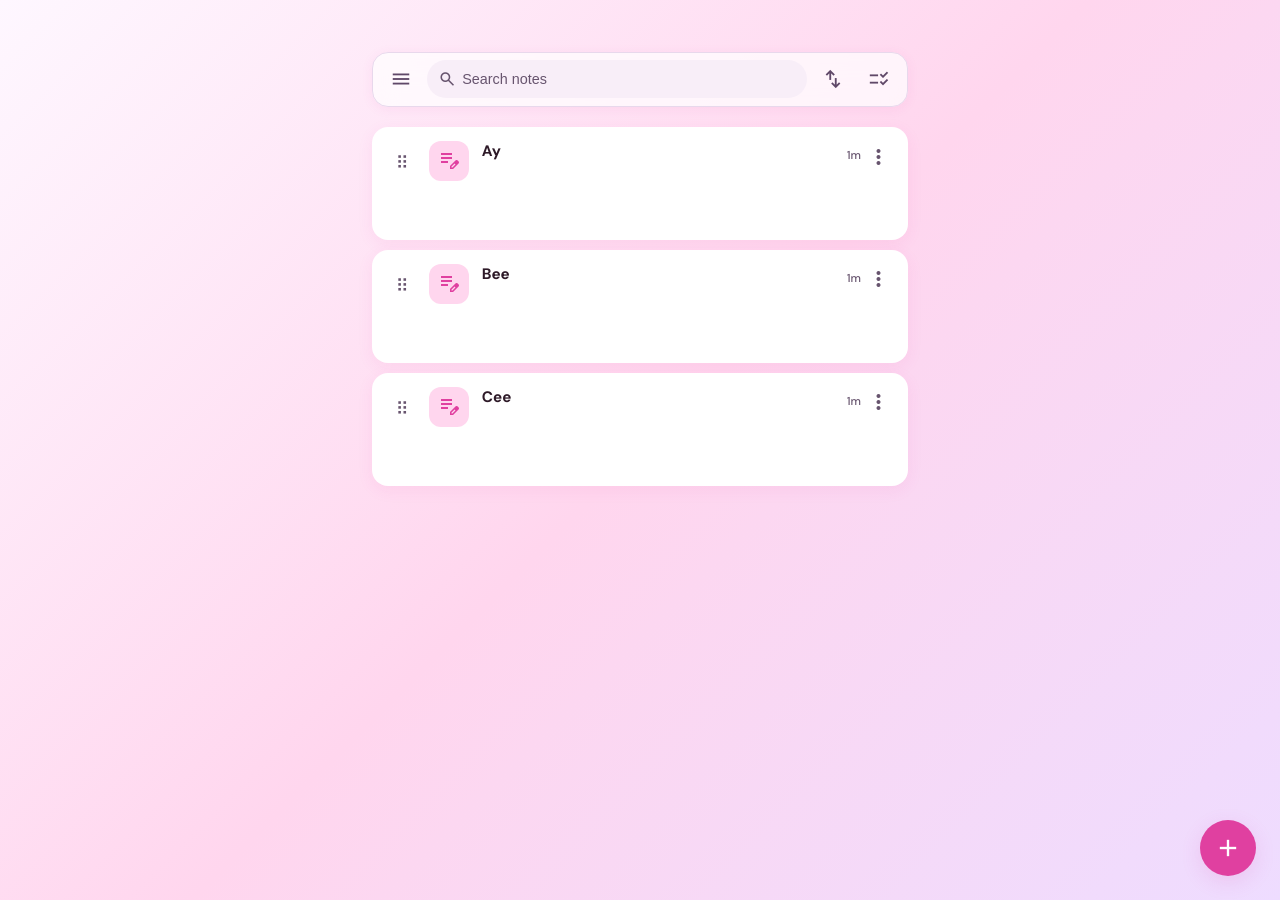
it: arranging by hand › hides the grips while searching
In the field with class "search": (629, 79) x1=462 y1=60 x2=796 y2=98, type "e"
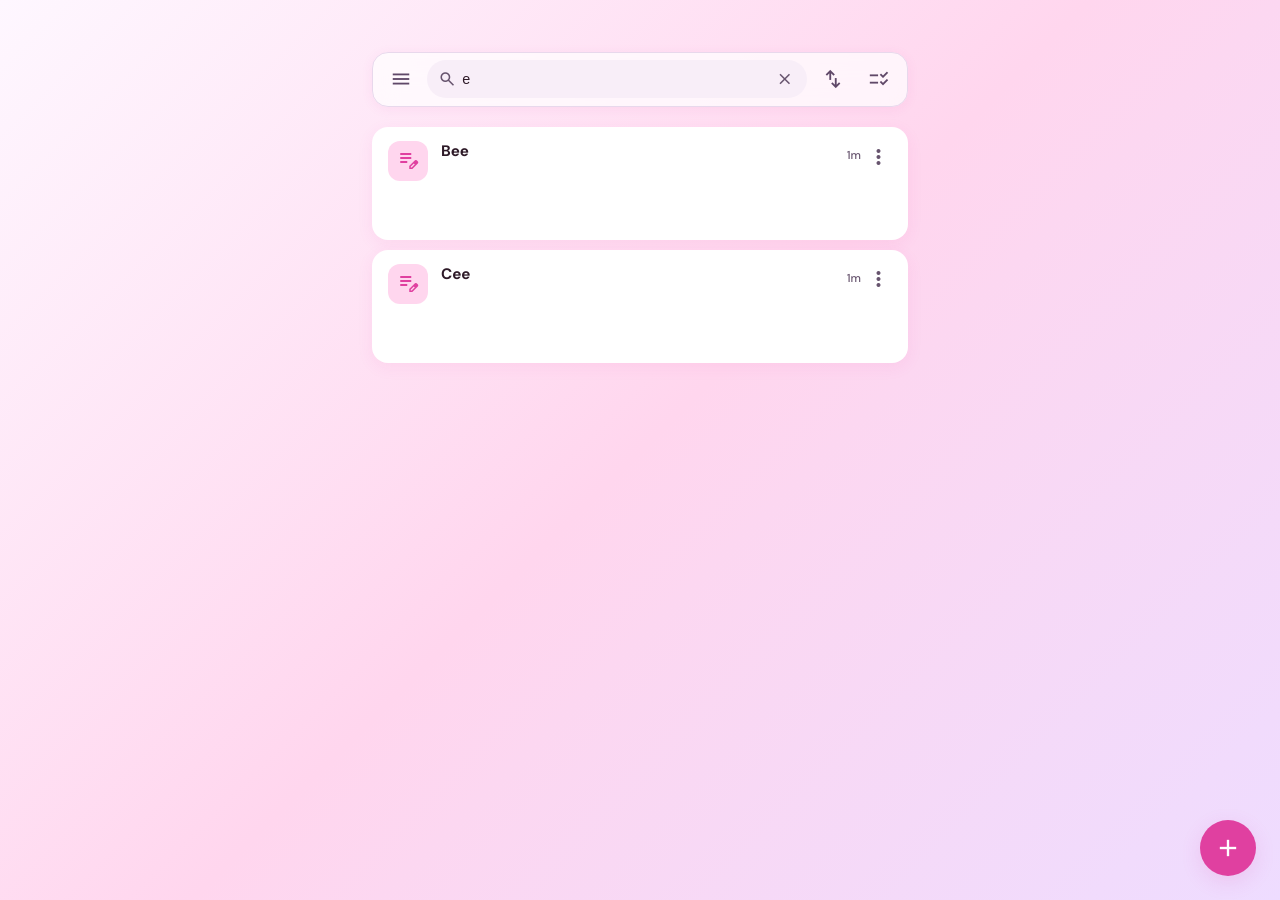
Now no buttons with class "drag-grip" are shown
